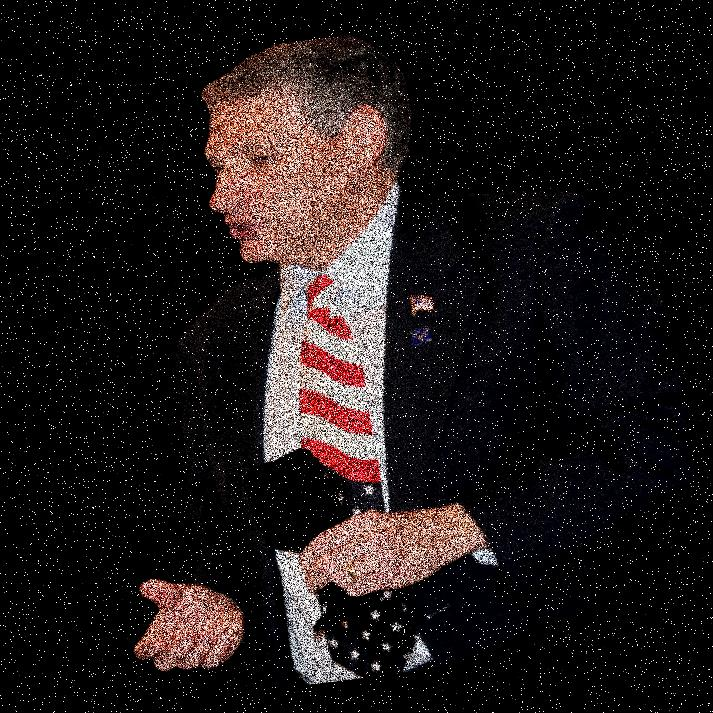Pessoa: (257, 0, 562, 712)
